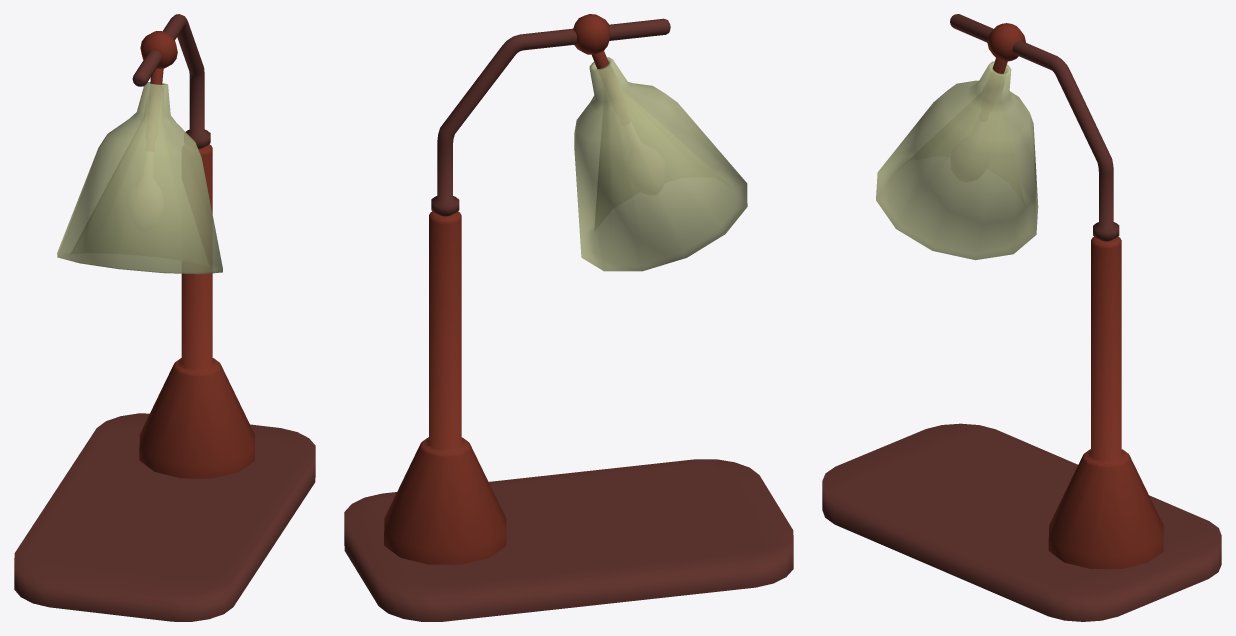
File: Lamp.fbx
3 views of the same model, side by side, from view 1: azimuth 30°, elevation 25°; view 2: azimuth 150°, elevation 25°; view 3: azimuth 270°, elevation 25° (orthographic). The views are drawn at different scales.
Visible parts, largest first — view 1: Lamp_Table_Stand, Lamp_Table_Head, Lamp_Table_Leg, Lamp_Table_Upperleg, Lamp_Table_Sphere; view 2: Lamp_Table_Stand, Lamp_Table_Head, Lamp_Table_Leg, Lamp_Table_Upperleg, Lamp_Table_Sphere; view 3: Lamp_Table_Stand, Lamp_Table_Head, Lamp_Table_Leg, Lamp_Table_Upperleg, Lamp_Table_Sphere.
Boxes of the visible parts, x1,y1,x2,y2 form: Lamp_Table_Stand: [14, 413, 315, 621]; Lamp_Table_Head: [57, 82, 222, 274]; Lamp_Table_Leg: [139, 144, 254, 478]; Lamp_Table_Upperleg: [132, 14, 210, 148]; Lamp_Table_Sphere: [140, 31, 177, 68]; Lamp_Table_Stand: [344, 459, 793, 621]; Lamp_Table_Head: [574, 57, 747, 271]; Lamp_Table_Leg: [384, 211, 506, 564]; Lamp_Table_Upperleg: [431, 18, 670, 216]; Lamp_Table_Sphere: [573, 14, 609, 54]; Lamp_Table_Stand: [822, 423, 1221, 621]; Lamp_Table_Head: [876, 61, 1038, 260]; Lamp_Table_Leg: [1048, 236, 1163, 568]; Lamp_Table_Upperleg: [950, 14, 1119, 241]; Lamp_Table_Sphere: [987, 23, 1025, 61].
Bounding box in the file's own units: 676 × 939 × 673.
